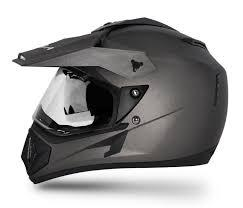helmet: (13, 18, 227, 183)
